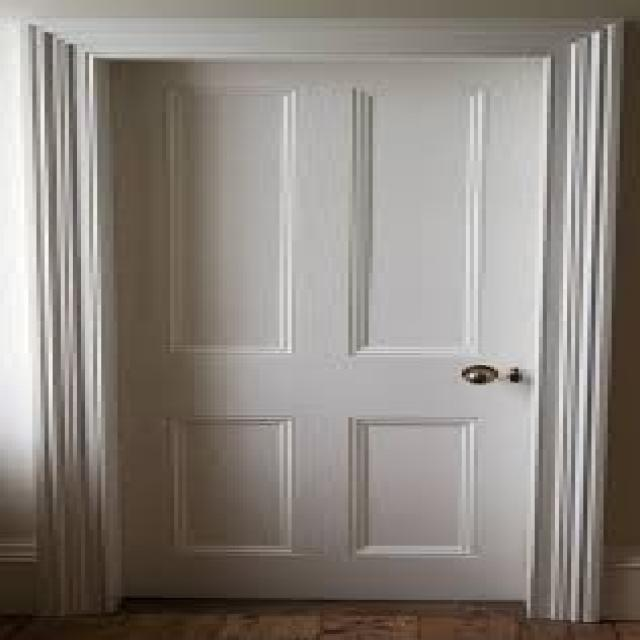Door: (57, 34, 588, 614)
